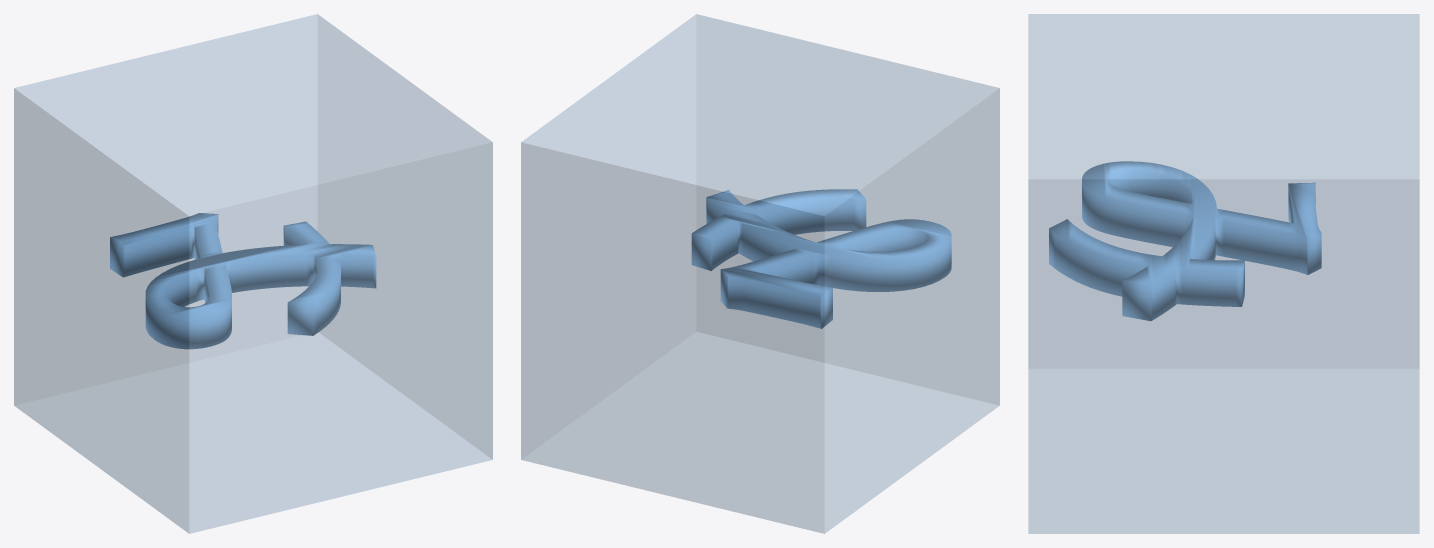
Rendered from Title_Ice5.obj.
The picture shows the model from 3 angles, left to right: view 1: azimuth 30°, elevation 25°; view 2: azimuth 150°, elevation 25°; view 3: azimuth 270°, elevation 25°; orthographic projection. The views are drawn at different scales.
Parts seen in each view (by area): view 1: 5.み; view 2: 5.み; view 3: 5.み.
Part boxes in pixels (x1,y1,x2,y2): 5.み: (14, 14, 492, 533); 5.み: (521, 14, 999, 533); 5.み: (1028, 14, 1419, 533).
Bounding box in the file's own units: 2 × 2 × 2.
1 material, 1 textured.
